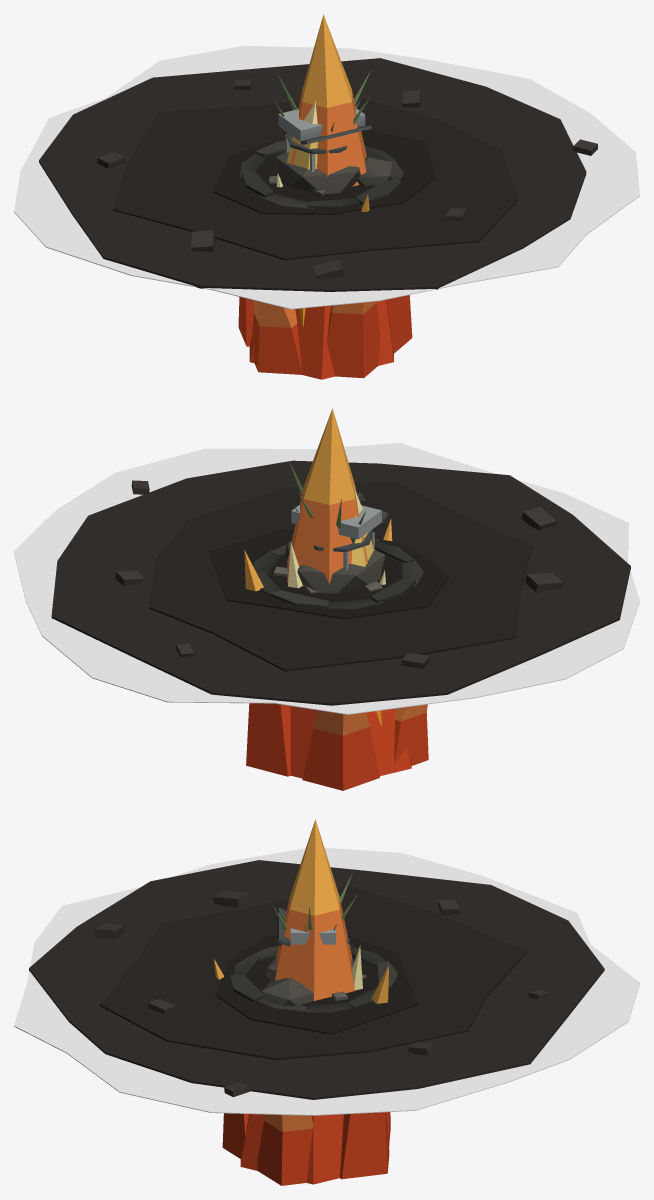
The model's file is incident-kit.glb.
3 views of the same model, one above another, from view 1: azimuth 30°, elevation 25°; view 2: azimuth 150°, elevation 25°; view 3: azimuth 270°, elevation 25° (orthographic). The views are drawn at different scales.
Visible parts, largest first — view 1: Scorch, PatchWide, FlameOuter, Pothole, Spoil, BeaconHead, FlameInner; view 2: Scorch, PatchWide, FlameOuter, Pothole, Spoil, BeaconHead, FlameInner; view 3: Scorch, PatchWide, FlameOuter, Pothole, Spoil, BeaconHead.
Part boxes in pixels (left/top/right/bottom): Scorch: left=39, top=58, right=597, bottom=291; PatchWide: left=14, top=45, right=639, bottom=309; FlameOuter: left=238, top=14, right=412, bottom=379; Pothole: left=240, top=140, right=403, bottom=208; Spoil: left=269, top=152, right=394, bottom=195; BeaconHead: left=278, top=108, right=371, bottom=171; FlameInner: left=276, top=100, right=317, bottom=326; Scorch: left=51, top=460, right=630, bottom=705; PatchWide: left=14, top=443, right=639, bottom=714; FlameOuter: left=244, top=408, right=428, bottom=790; Pothole: left=253, top=538, right=423, bottom=609; Spoil: left=273, top=541, right=385, bottom=593; BeaconHead: left=291, top=505, right=388, bottom=570; FlameInner: left=288, top=488, right=385, bottom=725; Scorch: left=29, top=860, right=604, bottom=1099; PatchWide: left=14, top=847, right=639, bottom=1115; FlameOuter: left=214, top=819, right=390, bottom=1185; Pothole: left=229, top=945, right=397, bottom=1012; Spoil: left=261, top=956, right=366, bottom=1005; BeaconHead: left=276, top=908, right=349, bottom=946.
Bounding box in the file's own units: 5.9 × 3.4 × 5.82.
